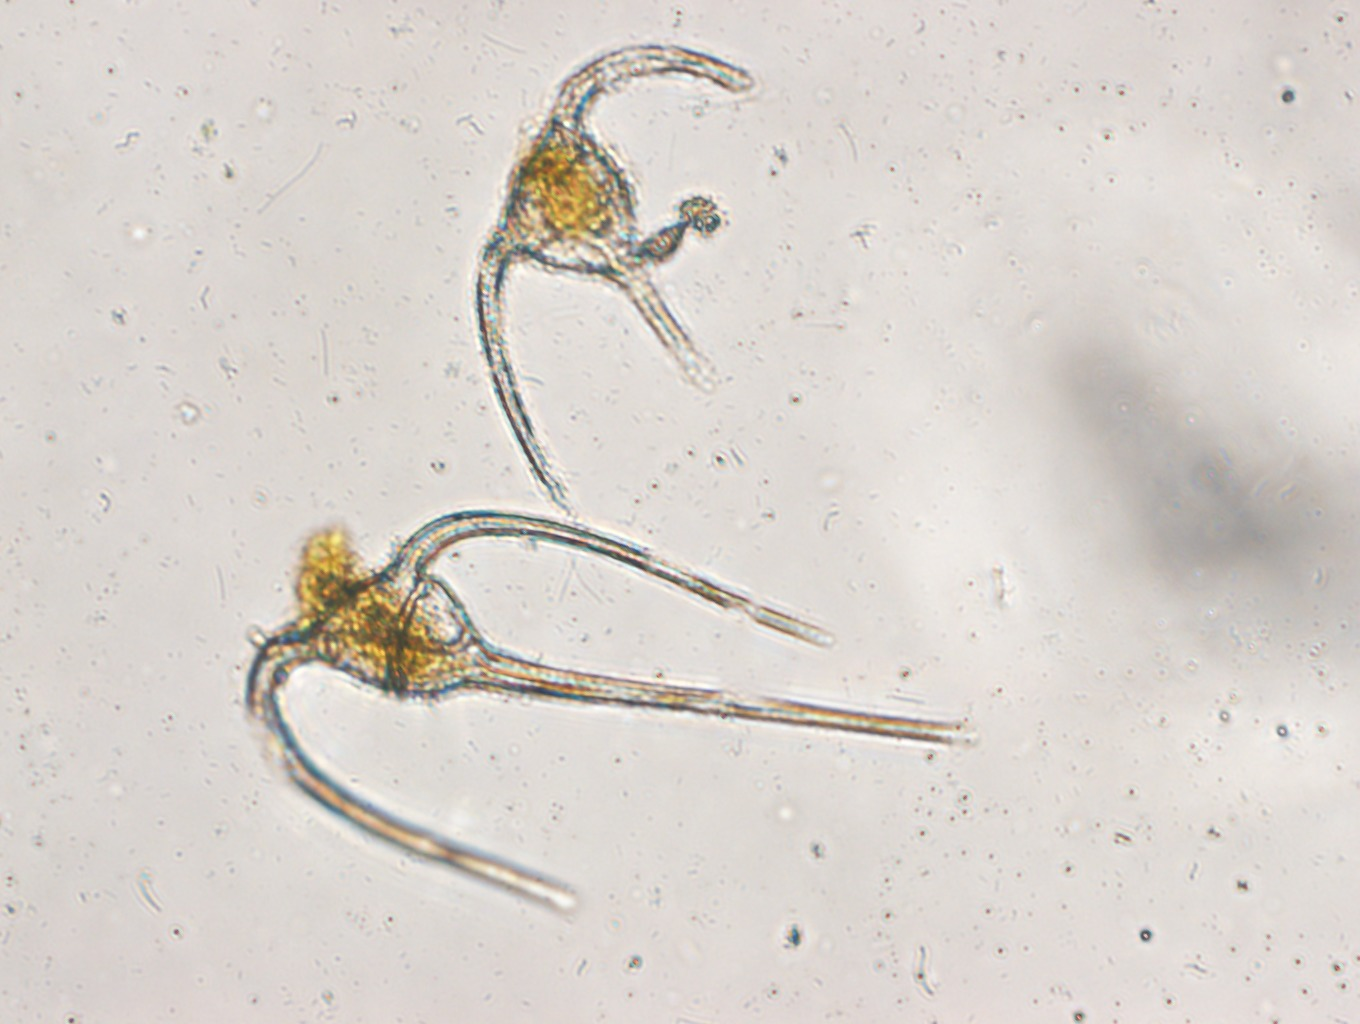ceratium trichoceros: (235, 503, 985, 919), (470, 30, 762, 520)
